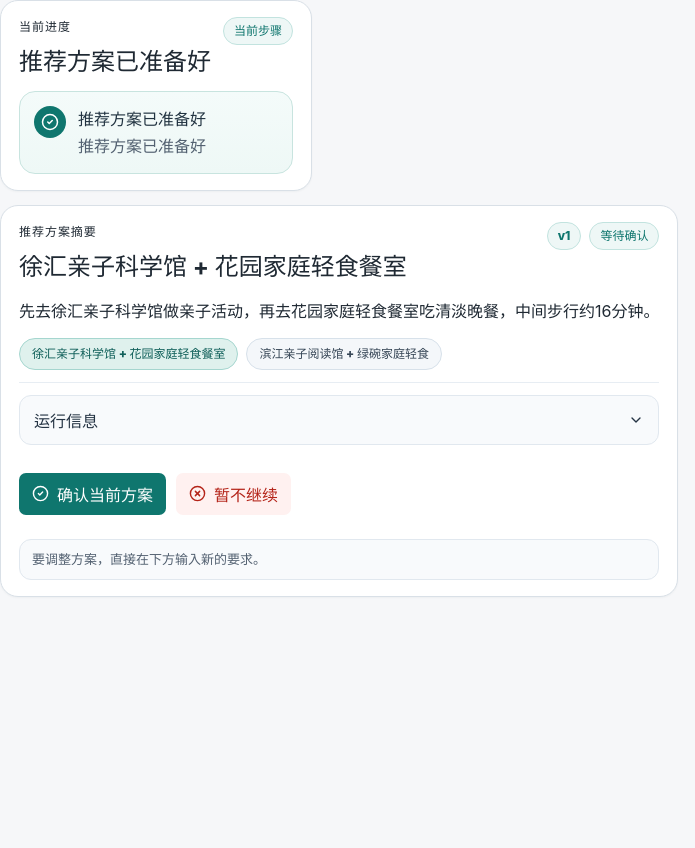
Test: ConversationThread › shows active run info behind a collapsed disclosure and copies the run id
This screenshot has width=695, height=848.
Click the button with test id "run-info-toggle" at coordinates (66, 421), box [19, 395, 659, 445]
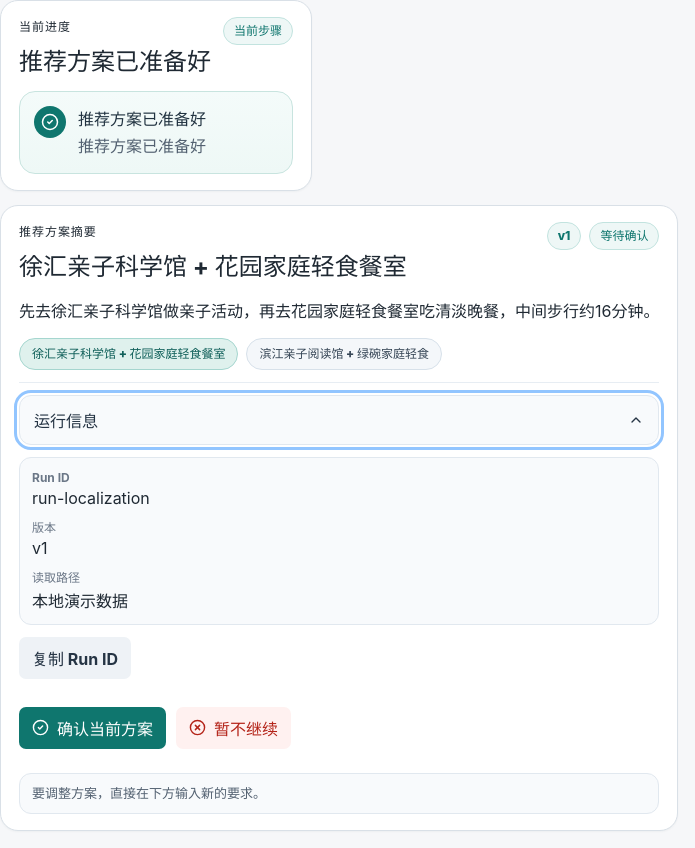
Expected: the text with test id "run-id-value" reads "run-localization", [32, 488, 150, 508]
Expected: the text "本地演示数据" is shown, [32, 591, 128, 611]
Click the button with test id "run-id-copy-button" at coordinates (75, 658), box [19, 637, 131, 679]
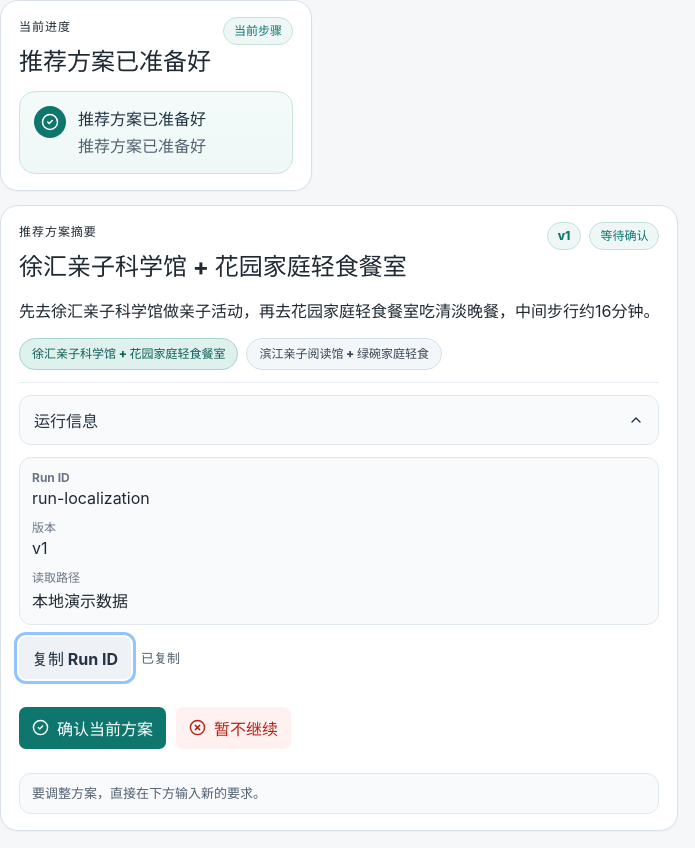
Expected: the text "已复制" is shown, [141, 648, 180, 667]
